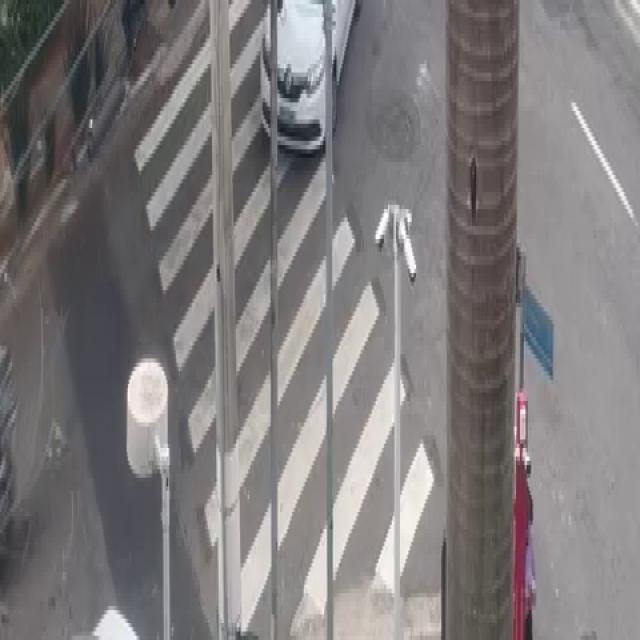car: (243, 0, 353, 183)
